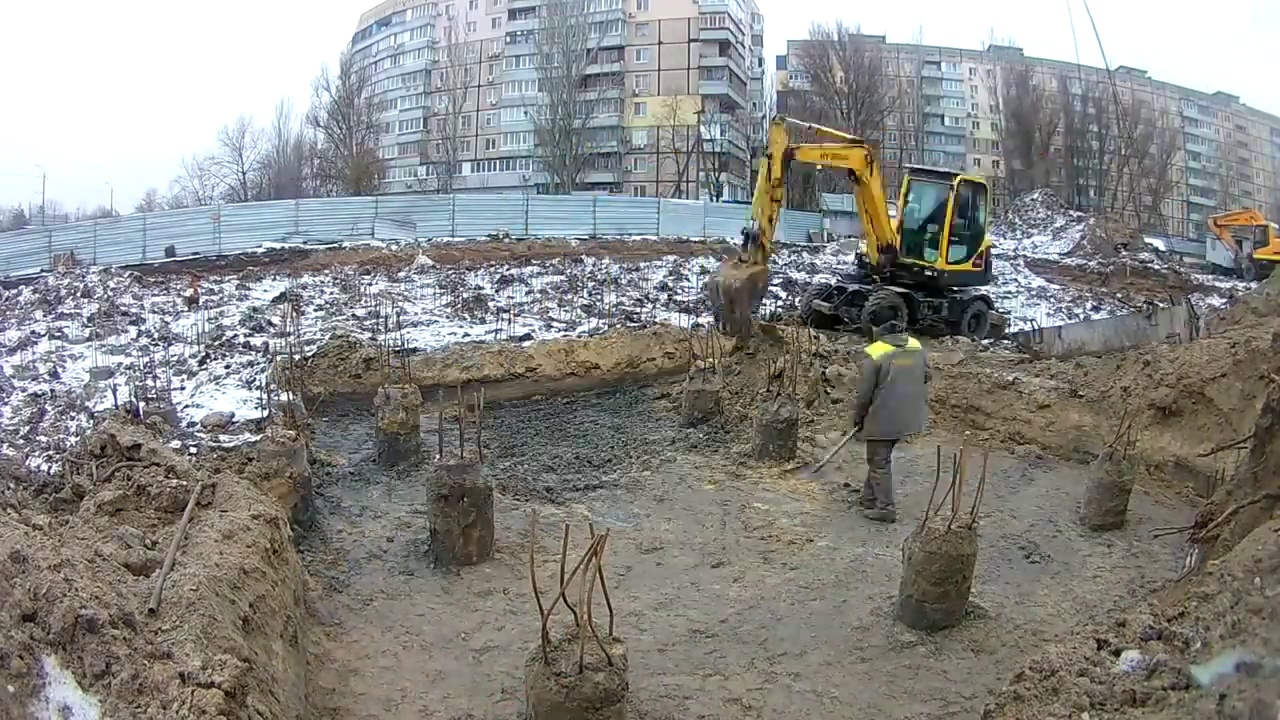helmet-off: (868, 307, 906, 348)
person: (847, 307, 933, 525)
